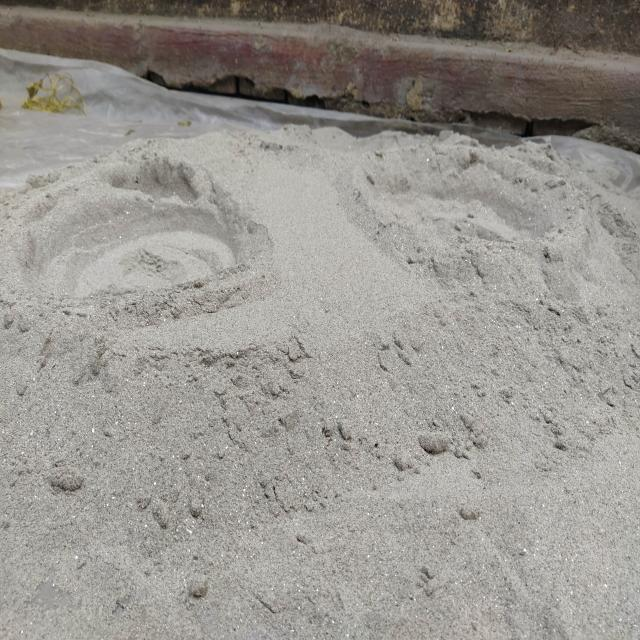C20: (2, 157, 242, 293)
